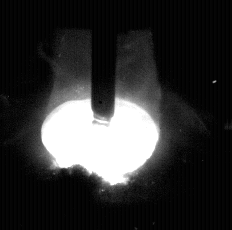arame: (91, 0, 117, 121)
poca: (40, 0, 160, 230)
